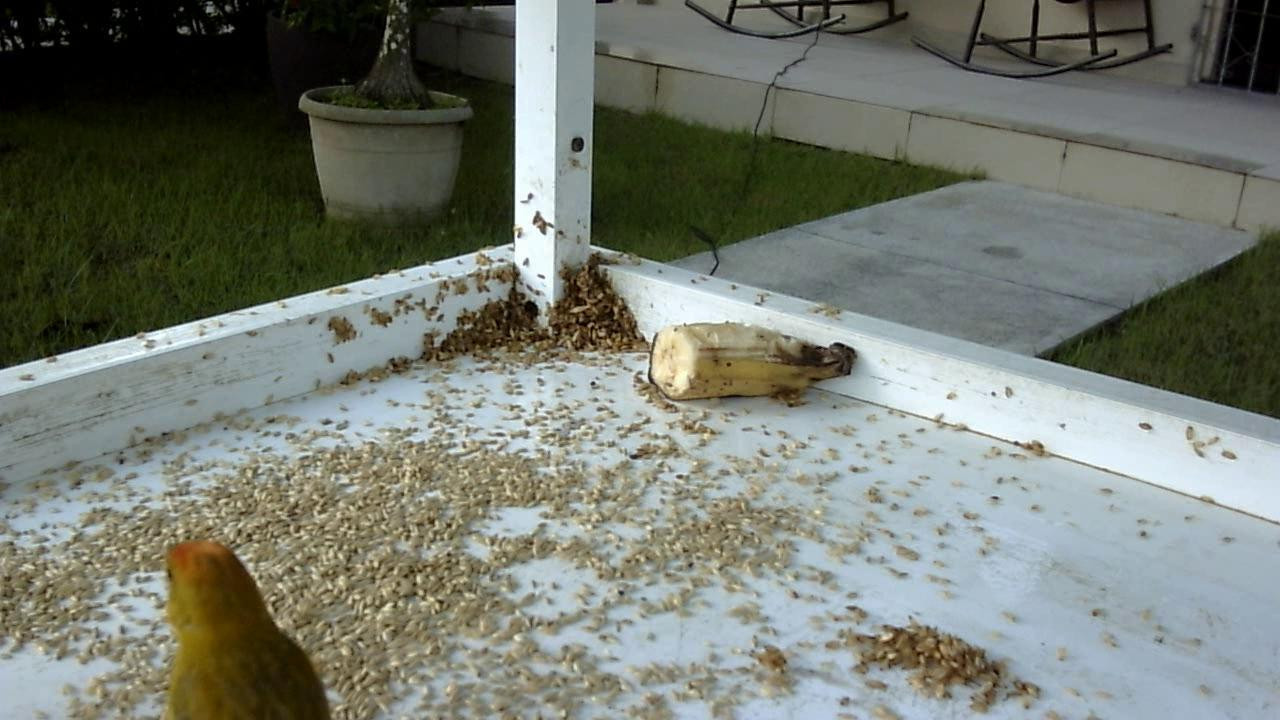canario_do_amazonas: (151, 532, 340, 715)
